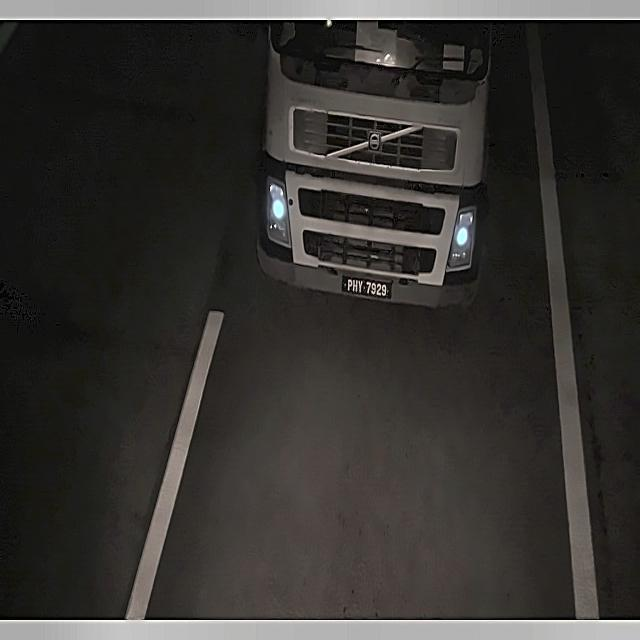car: (337, 268, 397, 304)
